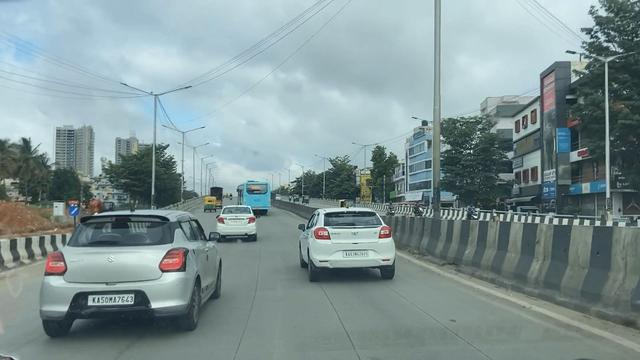HMV: (232, 172, 274, 226)
LMV: (21, 187, 222, 360), (297, 196, 408, 287), (212, 202, 264, 254)
